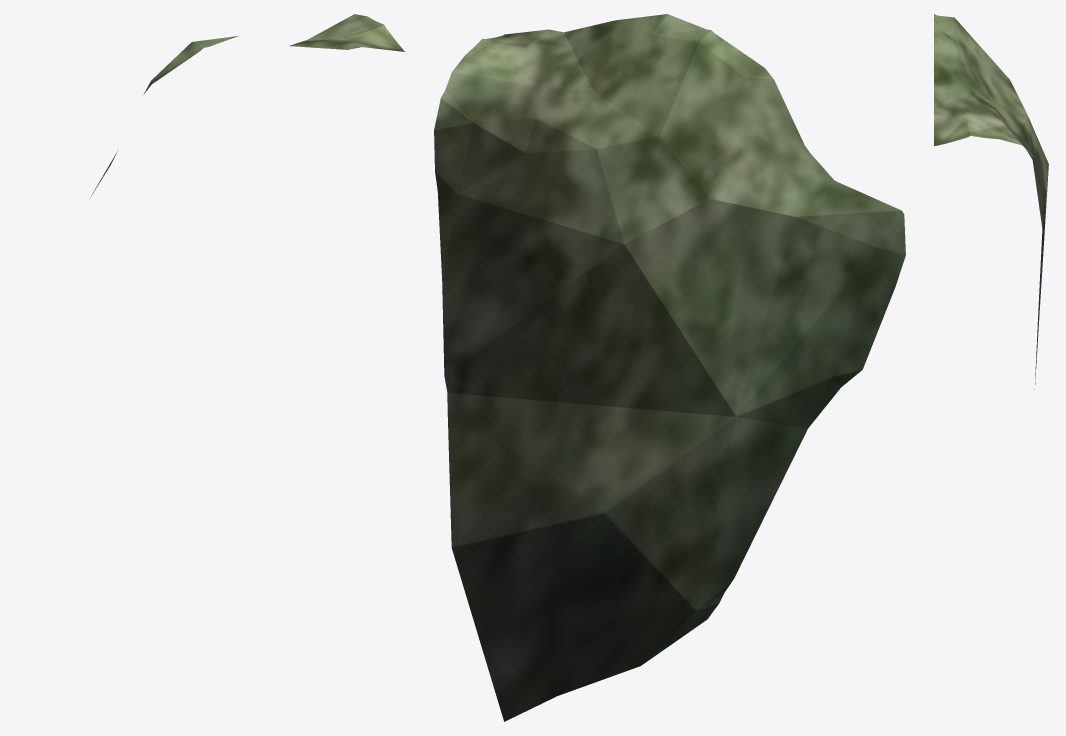
3 renders of one model, left to right at view 1: azimuth 30°, elevation 25°; view 2: azimuth 150°, elevation 25°; view 3: azimuth 270°, elevation 25°, orthographic. The views are drawn at different scales.
Bounding box in the file's own units: 1.35 × 2.4 × 0.409.
1 material, 1 textured.
